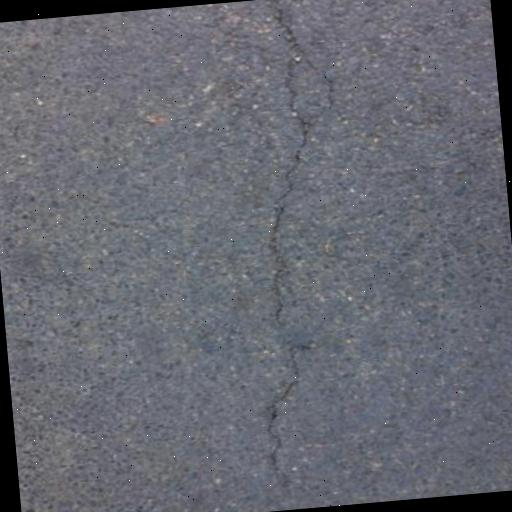spalling: (244, 3, 347, 489)
